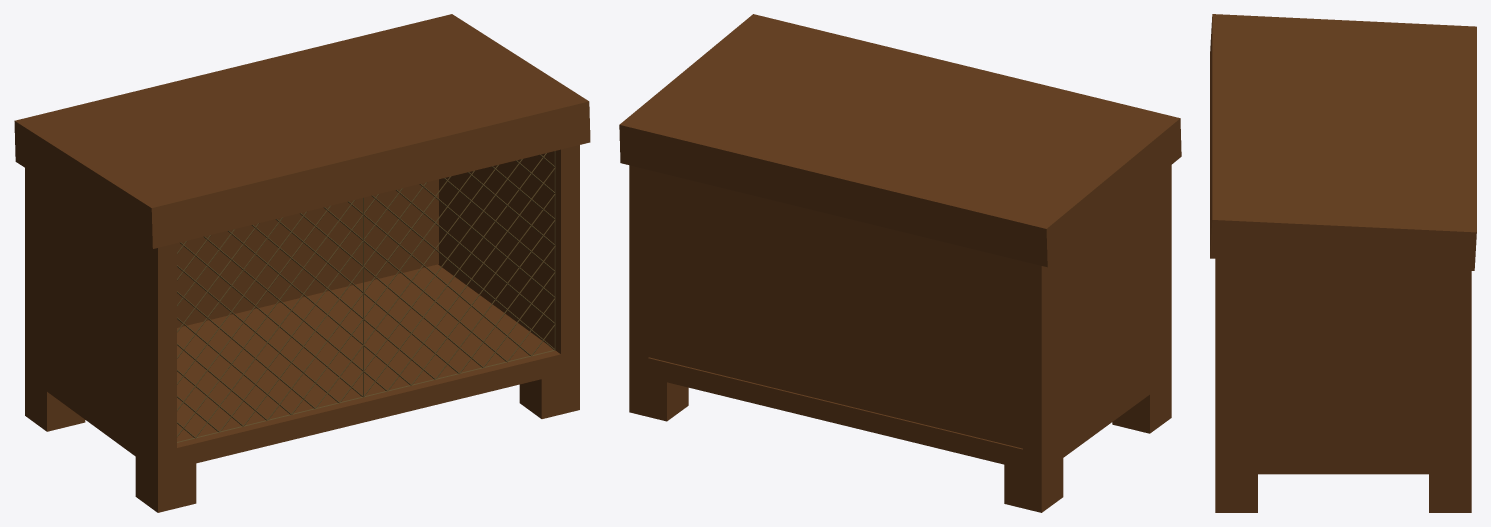
File: Hühnerstall (ganz).fbx
3 renders of one model, left to right at view 1: azimuth 30°, elevation 25°; view 2: azimuth 150°, elevation 25°; view 3: azimuth 270°, elevation 25°, orthographic. The views are drawn at different scales.
Parts seen in each view (by area): view 1: Stall, Rete.001; view 2: Stall; view 3: Stall.
Boxes of the visible parts, x1,y1,x2,y2 form: Stall: (14, 14, 590, 512); Rete.001: (177, 151, 555, 442); Stall: (619, 14, 1181, 512); Stall: (1210, 14, 1476, 512).
Bounding box in the file's own units: 456 × 306 × 250.
